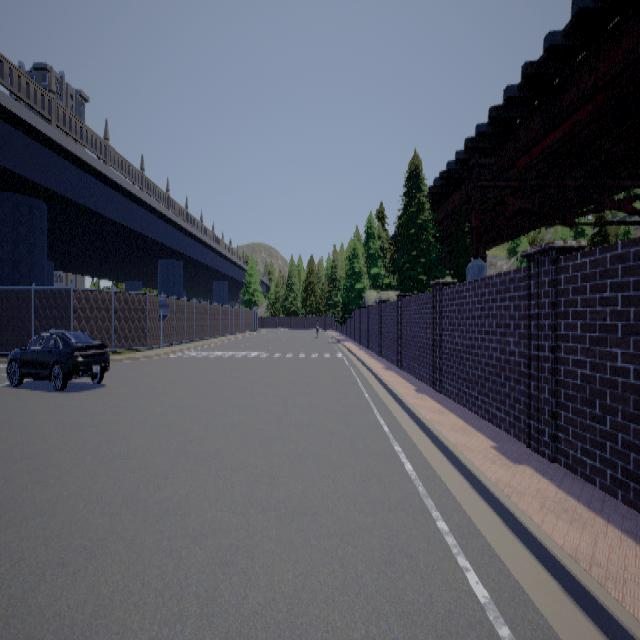vehicle: (5, 328, 109, 389)
